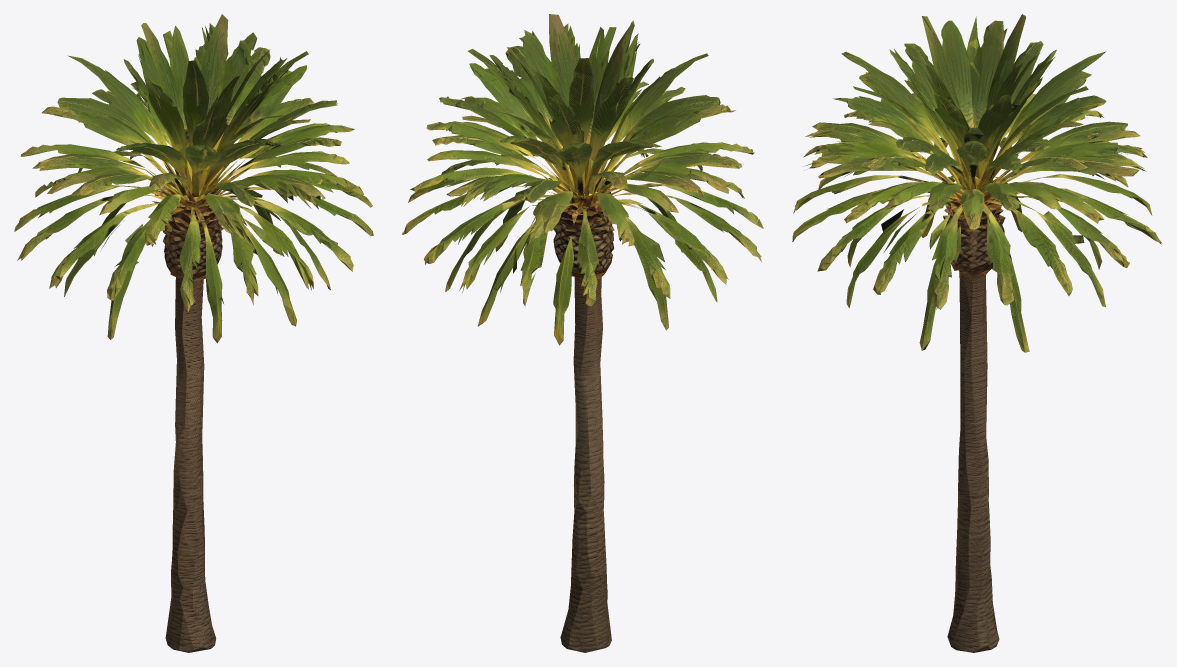
File: palm_b.glb
3 views of the same model, side by side, from view 1: azimuth 30°, elevation 25°; view 2: azimuth 150°, elevation 25°; view 3: azimuth 270°, elevation 25° (orthographic).
Size of the model in its own units: 1.05 by 1.88 by 1.03.
Materials: 1 (1 with a texture image).
